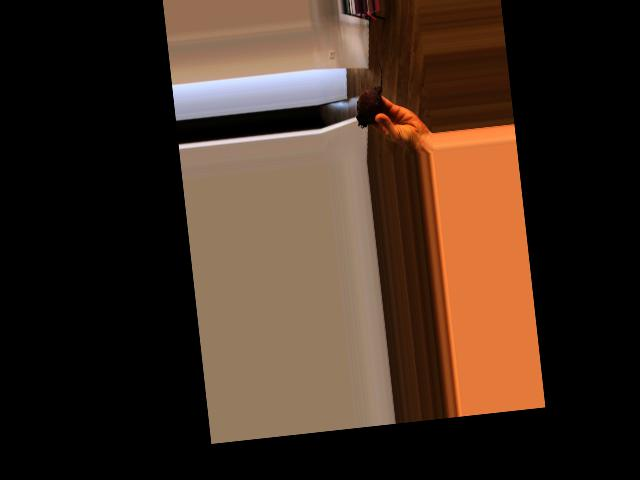beet: (350, 59, 388, 127)
